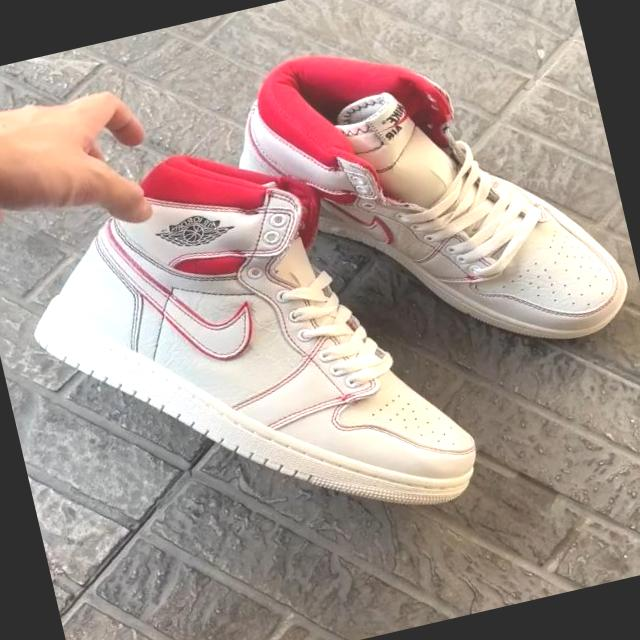nike_fake_jordan: (0, 104, 487, 587), (206, 0, 640, 409)
